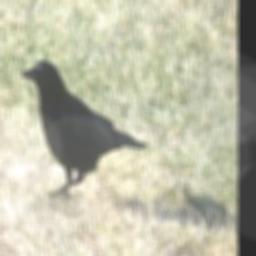Crow: (17, 55, 144, 196)
